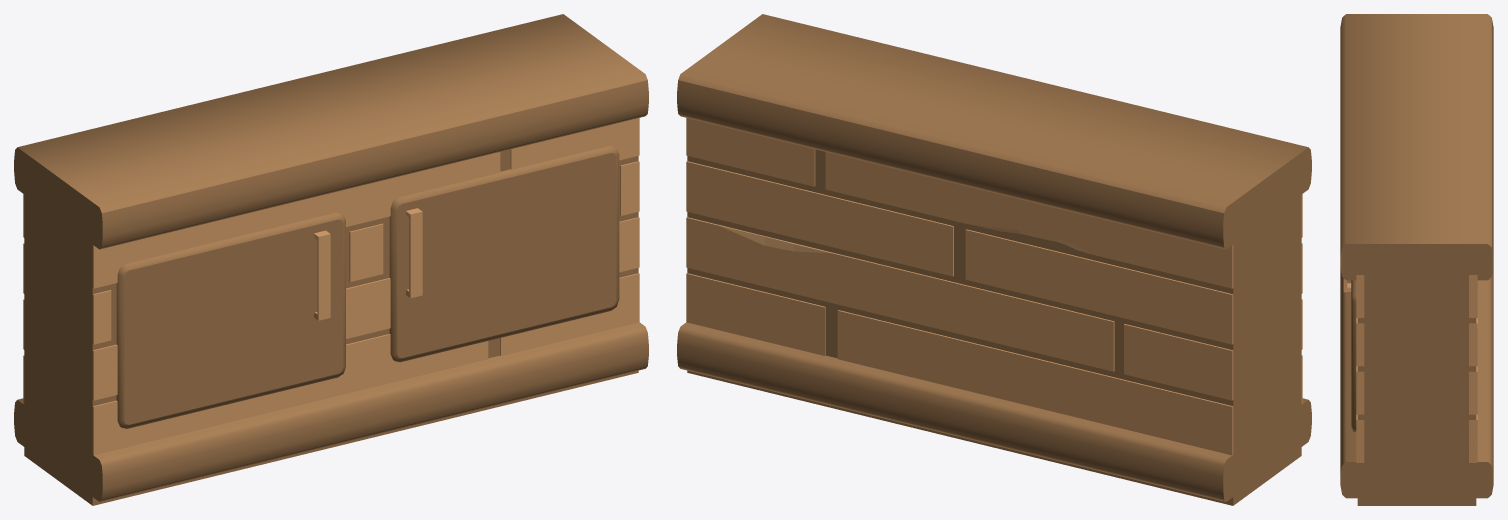
File: furn-sideboard-modern.glb
3 views of the same model, side by side, from view 1: azimuth 30°, elevation 25°; view 2: azimuth 150°, elevation 25°; view 3: azimuth 270°, elevation 25° (orthographic). The views are drawn at different scales.
Visible parts, largest first — view 1: Environment_Counter_Doors; view 2: Environment_Counter_Doors; view 3: Environment_Counter_Doors.
Part boxes in pixels (x1,y1,x2,y2): Environment_Counter_Doors: (14,14,648,505); Environment_Counter_Doors: (677,14,1311,505); Environment_Counter_Doors: (1340,14,1493,505).
Size of the model in its own units: 1.6 by 0.85 by 0.45.
1 material, 1 textured.
